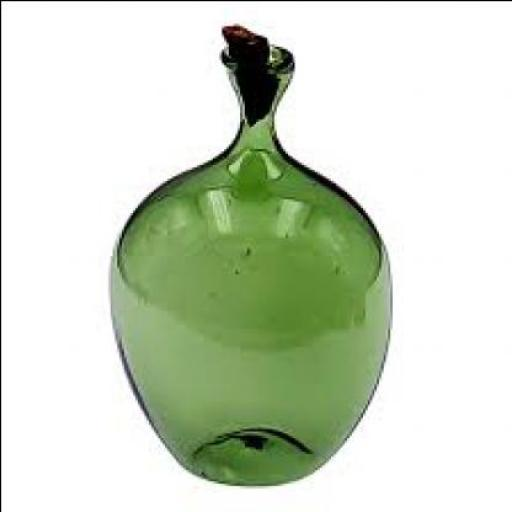glass: (111, 41, 394, 482)
